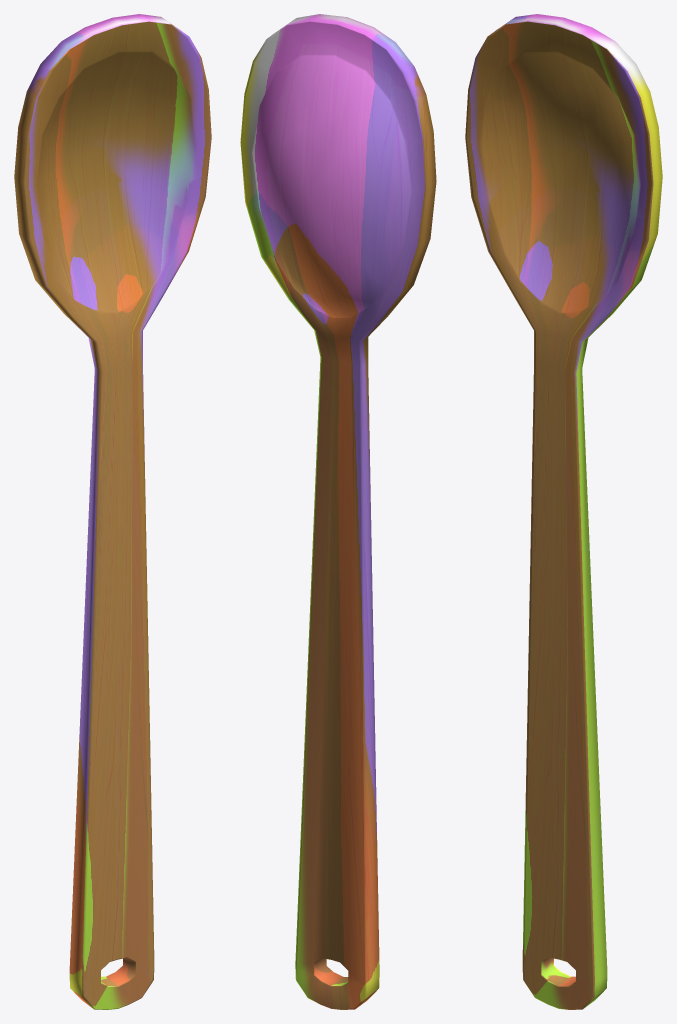
File: woodspoon.FBX
The picture shows the model from 3 angles, left to right: view 1: azimuth 30°, elevation 25°; view 2: azimuth 150°, elevation 25°; view 3: azimuth 330°, elevation 25°; orthographic projection.
Parts seen in each view (by area): view 1: Box001; view 2: Box001; view 3: Box001.
Part boxes in pixels (x1=…): Box001: x1=14, y1=14, x2=211, y2=1009; Box001: x1=240, y1=14, x2=436, y2=1009; Box001: x1=465, y1=14, x2=662, y2=1009.
Bounding box in the file's own units: 4.63 × 23.2 × 1.69.
1 material, 1 textured.
